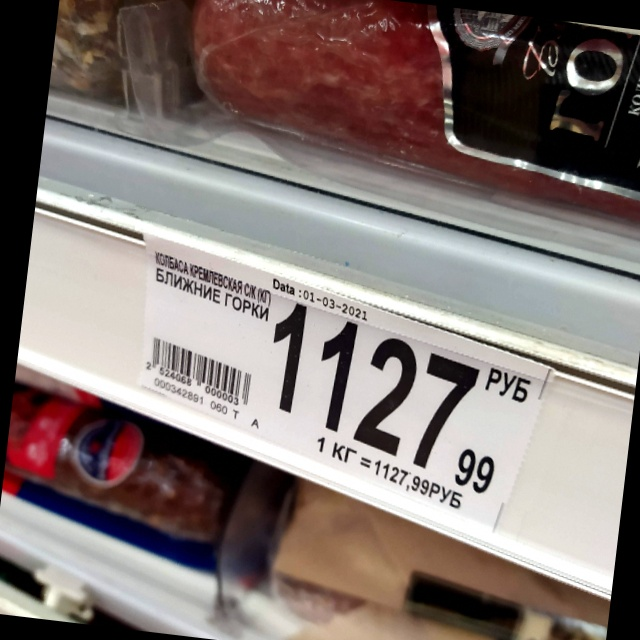barcode: (142, 335, 252, 405)
name: (152, 248, 279, 324)
price: (271, 298, 499, 494)
price_tag: (141, 232, 554, 543)
